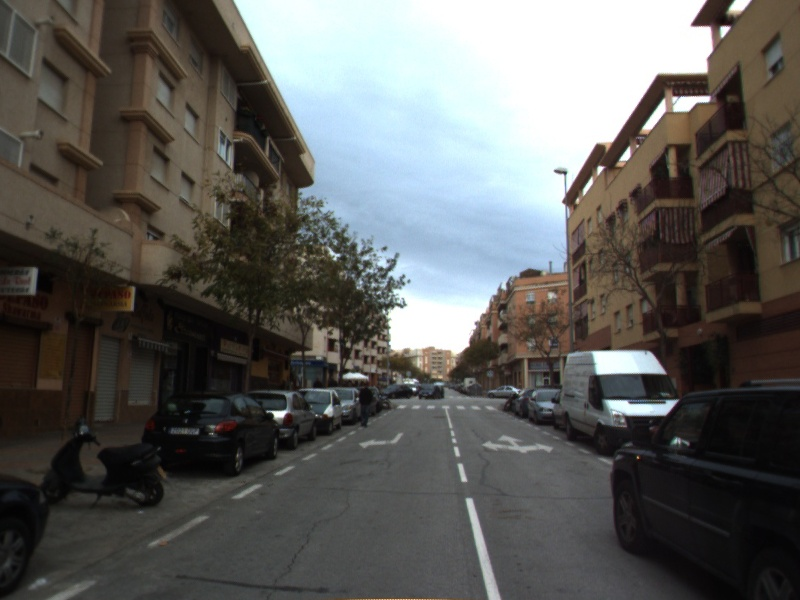STRAIGHT_LEFT_RIGHT: (480, 433, 556, 455)
